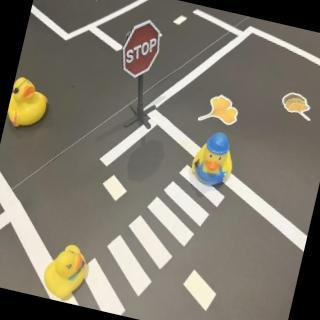duck_regular: (38, 236, 96, 306)
duck_specialty: (187, 127, 241, 193), (5, 72, 55, 135)
road_crosswalk: (71, 141, 235, 320)
sign_stop: (117, 16, 166, 82)
